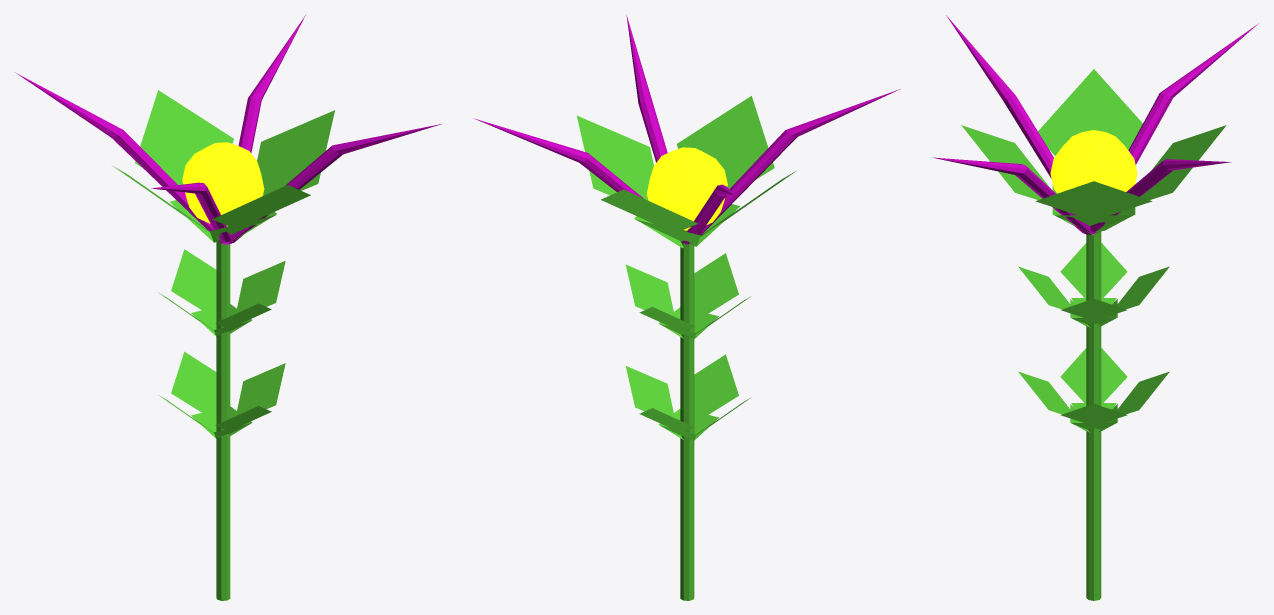
The model's file is lowpoly_flower4.fbx.
3 renders of one model, left to right at view 1: azimuth 30°, elevation 25°; view 2: azimuth 150°, elevation 25°; view 3: azimuth 270°, elevation 25°, orthographic. The views are drawn at different scales.
Visible parts, largest first — view 1: Sphere; view 2: Sphere; view 3: Sphere.
Part boxes in pixels (x1,y1,x2,y2): Sphere: (15,15,441,600); Sphere: (474,15,900,600); Sphere: (933,15,1258,600).
Size of the model in its own units: 436 by 701 by 409.
